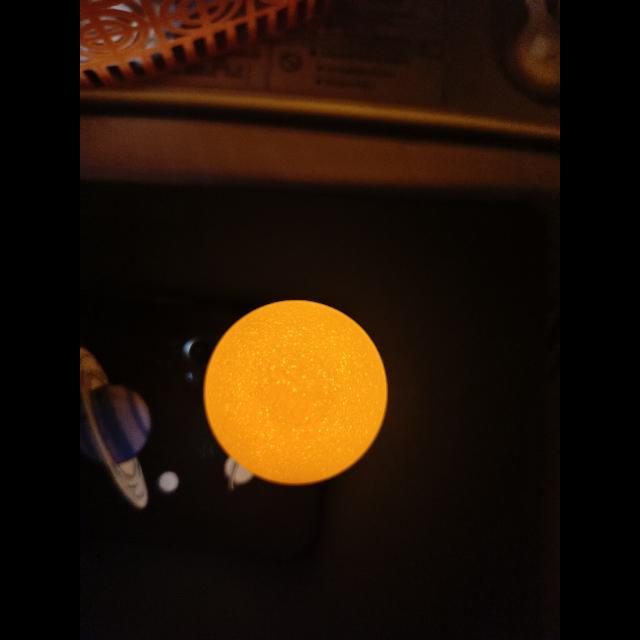AA - Premium: (204, 300, 388, 485), (288, 389, 289, 391)
